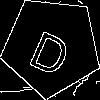D: (26, 21, 77, 78)
